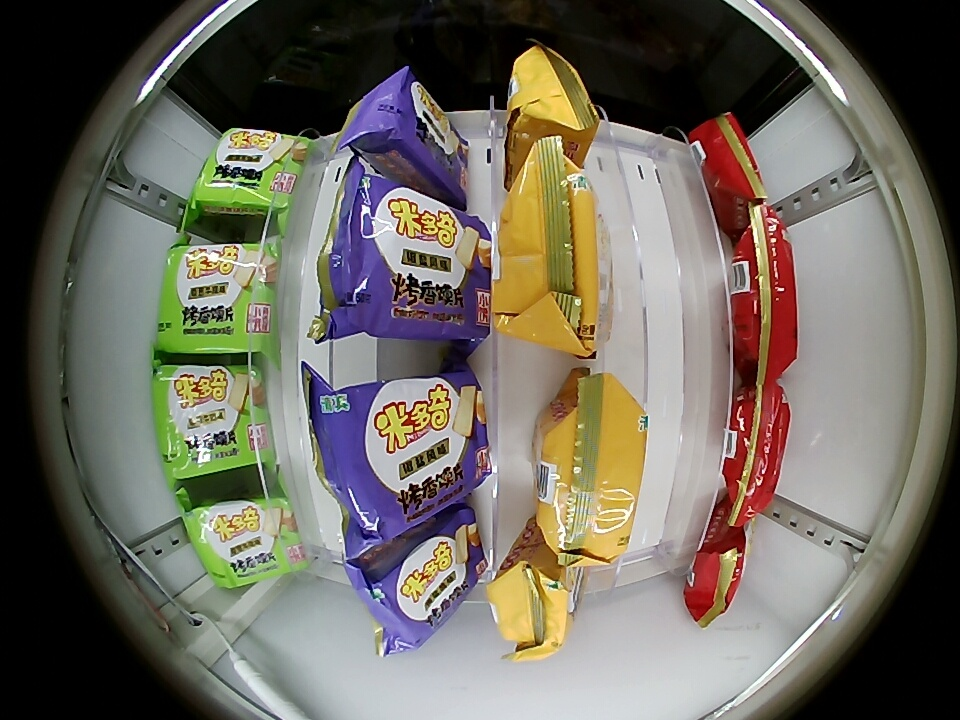kaomo_gali: (493, 148, 610, 354), (533, 375, 648, 560), (488, 528, 583, 658), (503, 46, 600, 170)
kaomo_jiaoyan: (303, 370, 493, 548), (316, 166, 494, 341), (349, 505, 488, 654), (337, 69, 469, 209)
kaomo_shaokao: (728, 224, 796, 375), (722, 382, 790, 516), (694, 116, 768, 235), (683, 510, 749, 624)
kaomo_xiangcon: (152, 363, 274, 482), (156, 241, 282, 355), (183, 490, 306, 589), (187, 128, 313, 221)
